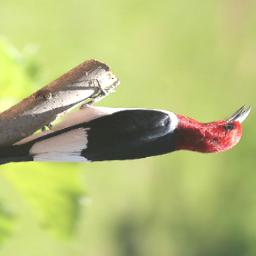Woodpecker: (0, 90, 256, 183)
